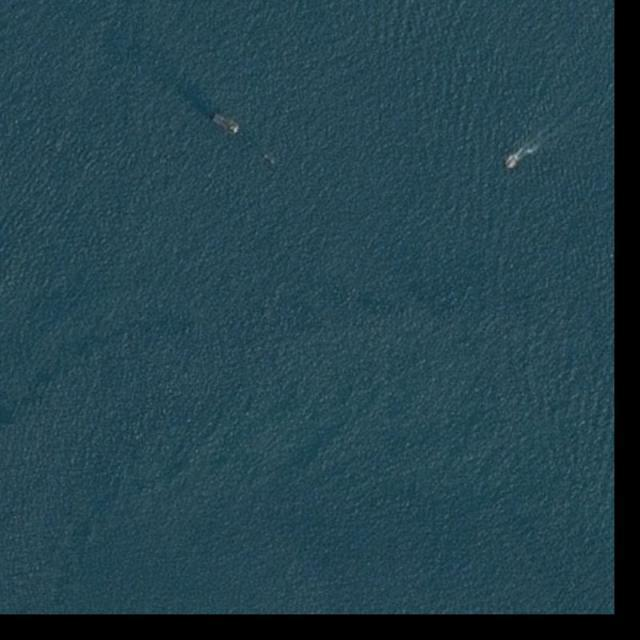ship: (211, 112, 242, 135), (506, 158, 516, 169)
